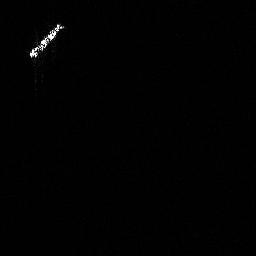ship: (26, 19, 66, 61)
